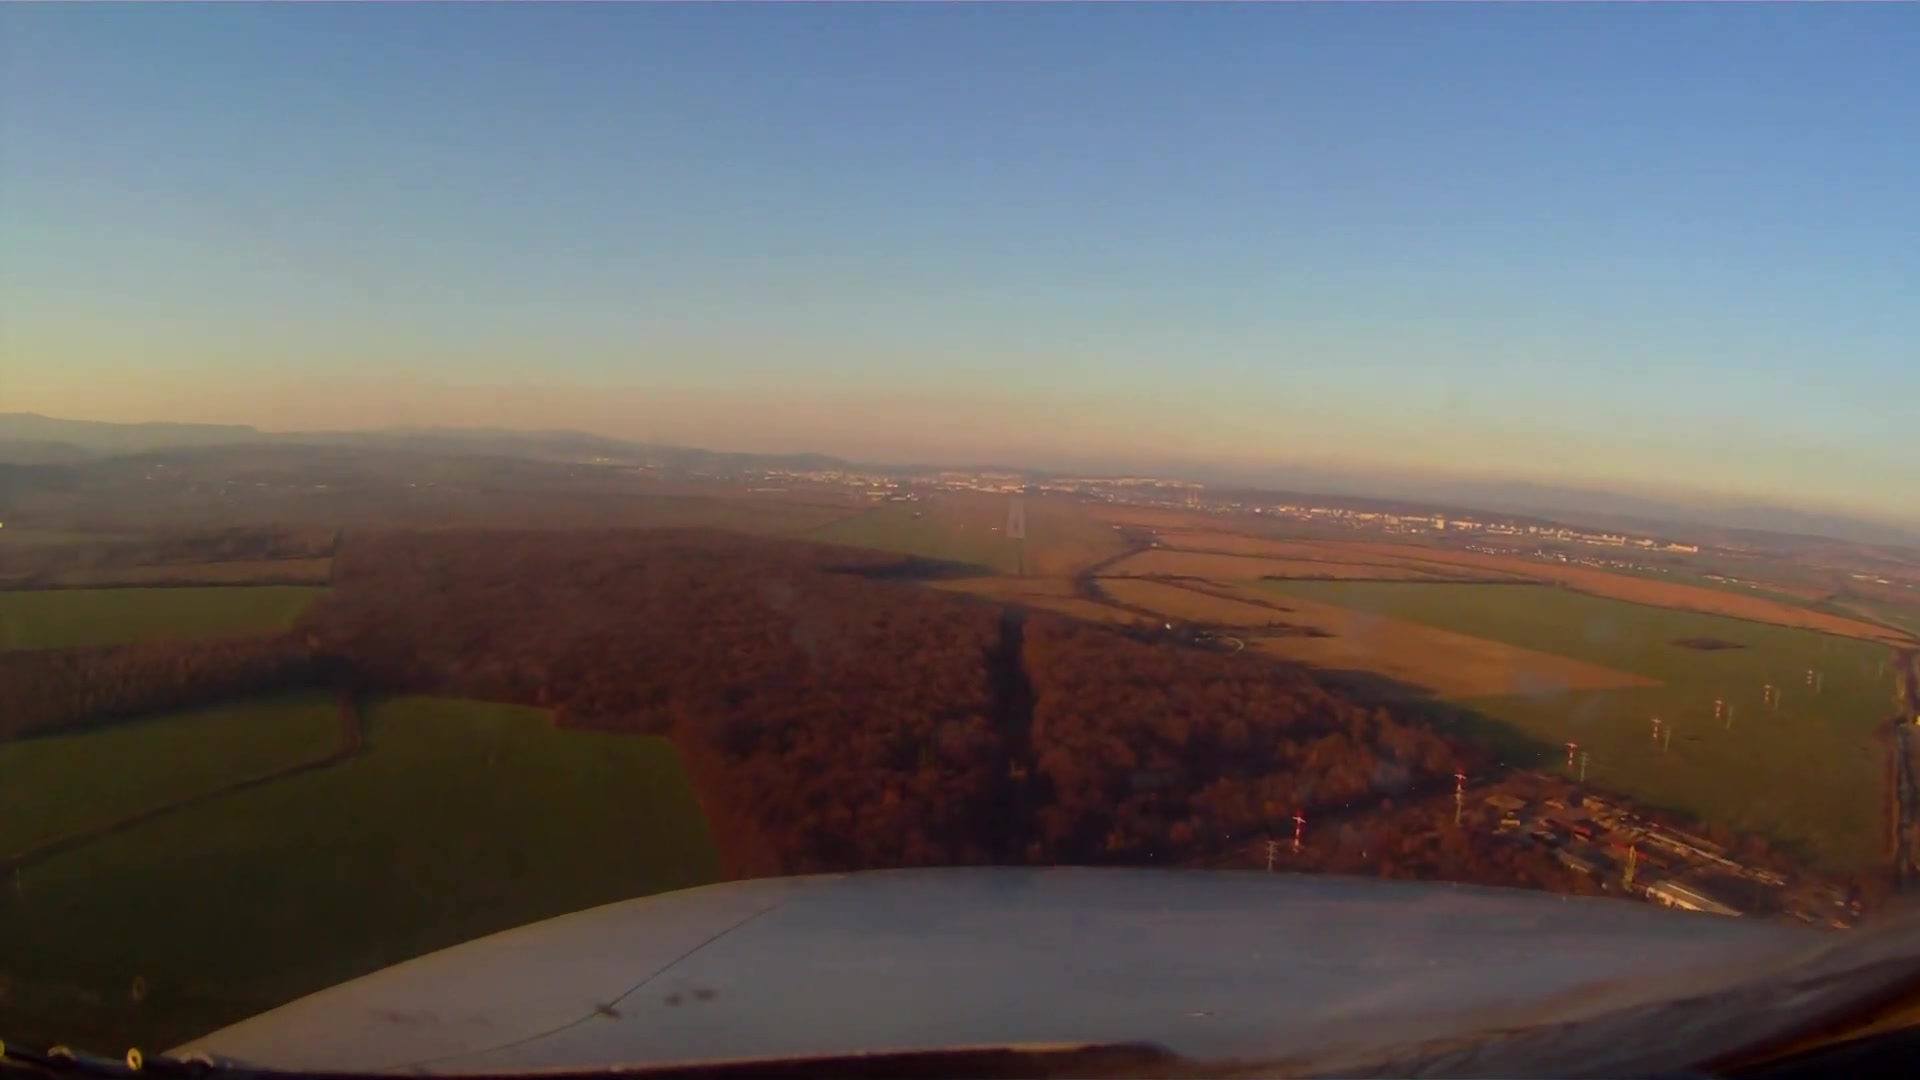runway: (1002, 502, 1029, 539)
